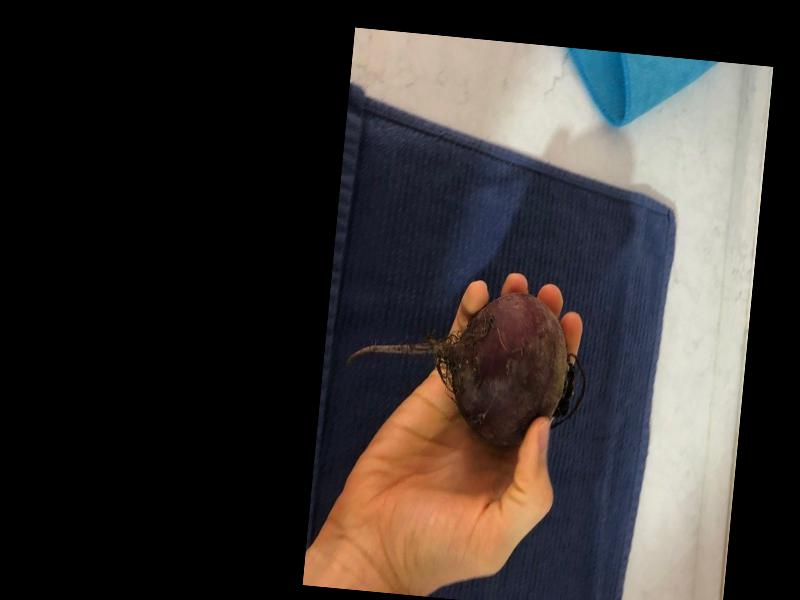Beet: (339, 276, 592, 452)
